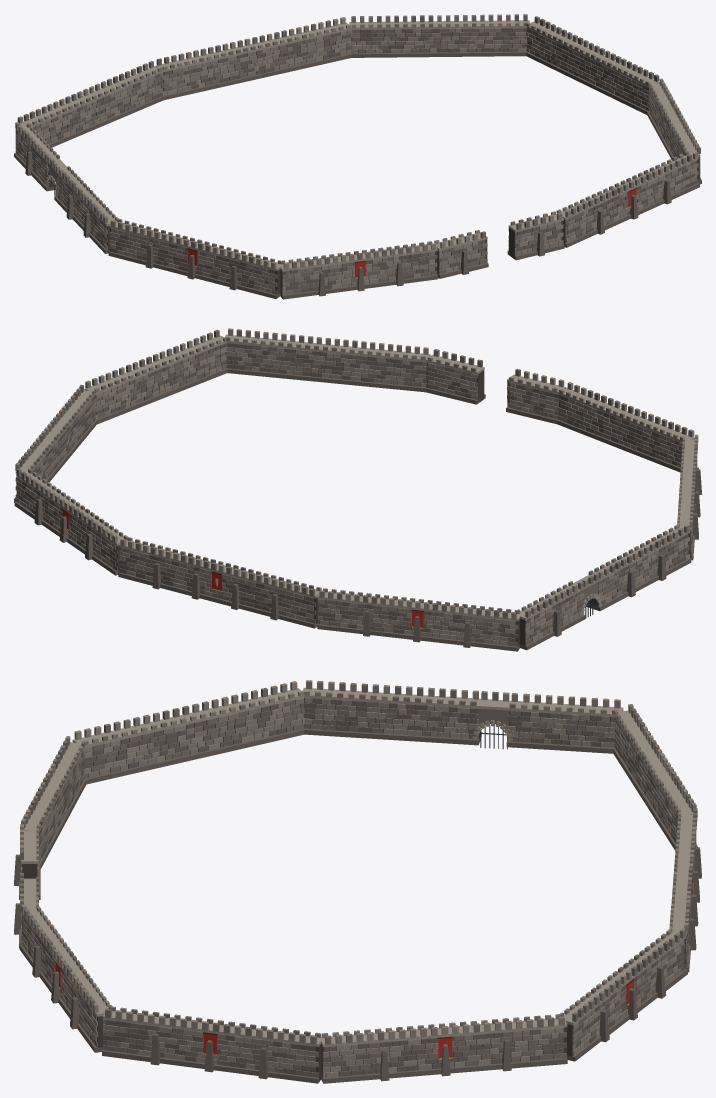
File: walls-DL6hLM5P.glb
3 renders of one model, top to bottom at view 1: azimuth 30°, elevation 25°; view 2: azimuth 150°, elevation 25°; view 3: azimuth 270°, elevation 25°, orthographic. The views are drawn at different scales.
Parts seen in each view (by area): view 1: castle_walls; view 2: castle_walls, water_gate; view 3: castle_walls, water_gate.
Part boxes in pixels (bbox=[...]): castle_walls: bbox=[14, 14, 701, 299]; castle_walls: bbox=[14, 328, 701, 651]; water_gate: bbox=[572, 573, 601, 618]; castle_walls: bbox=[14, 680, 701, 1083]; water_gate: bbox=[472, 691, 513, 749].
Bounding box in the file's own units: 90.27 × 6.17 × 73.21.
